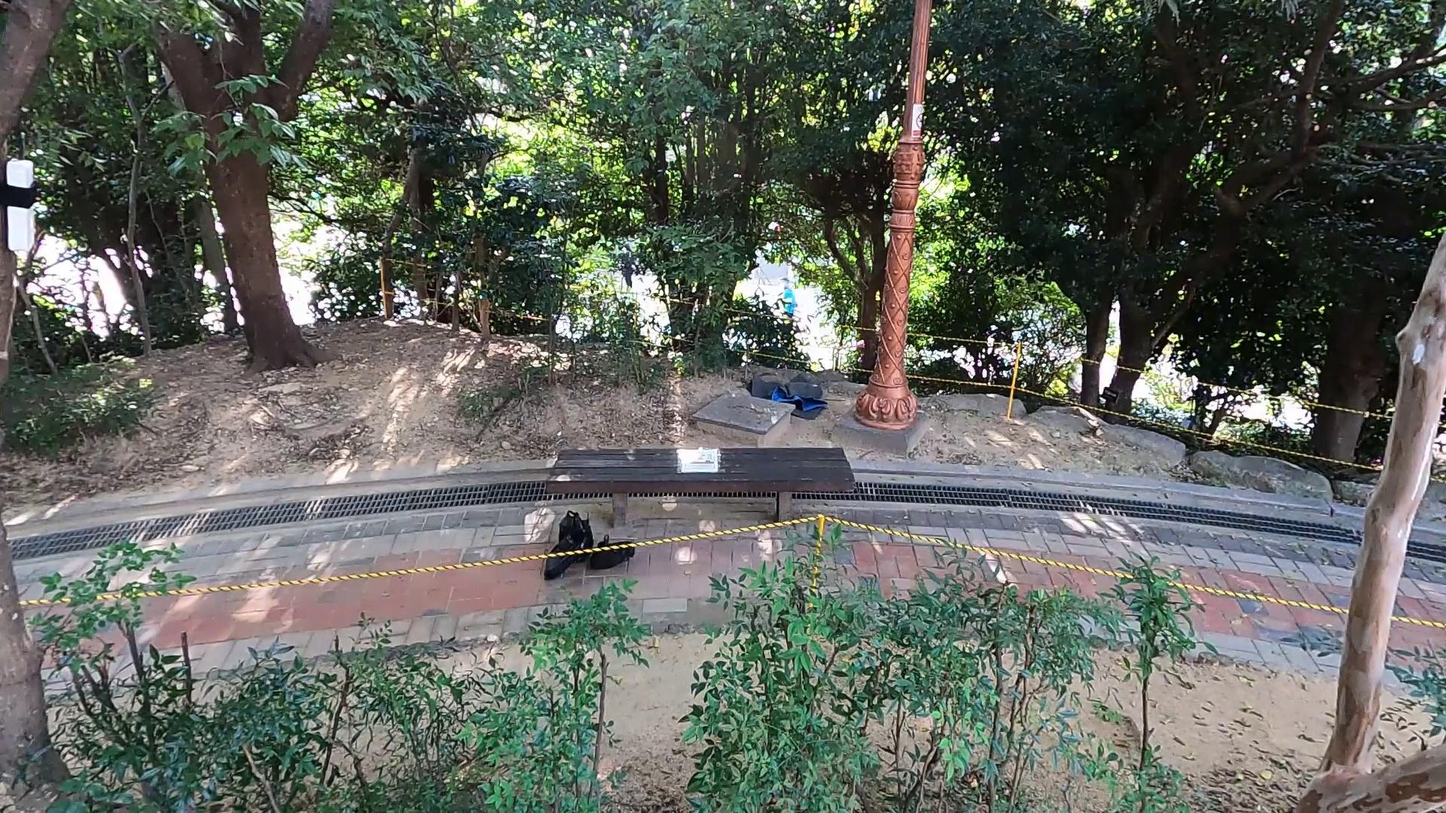trash: (745, 372, 828, 422), (543, 528, 587, 580), (556, 508, 596, 562), (587, 535, 635, 573)
